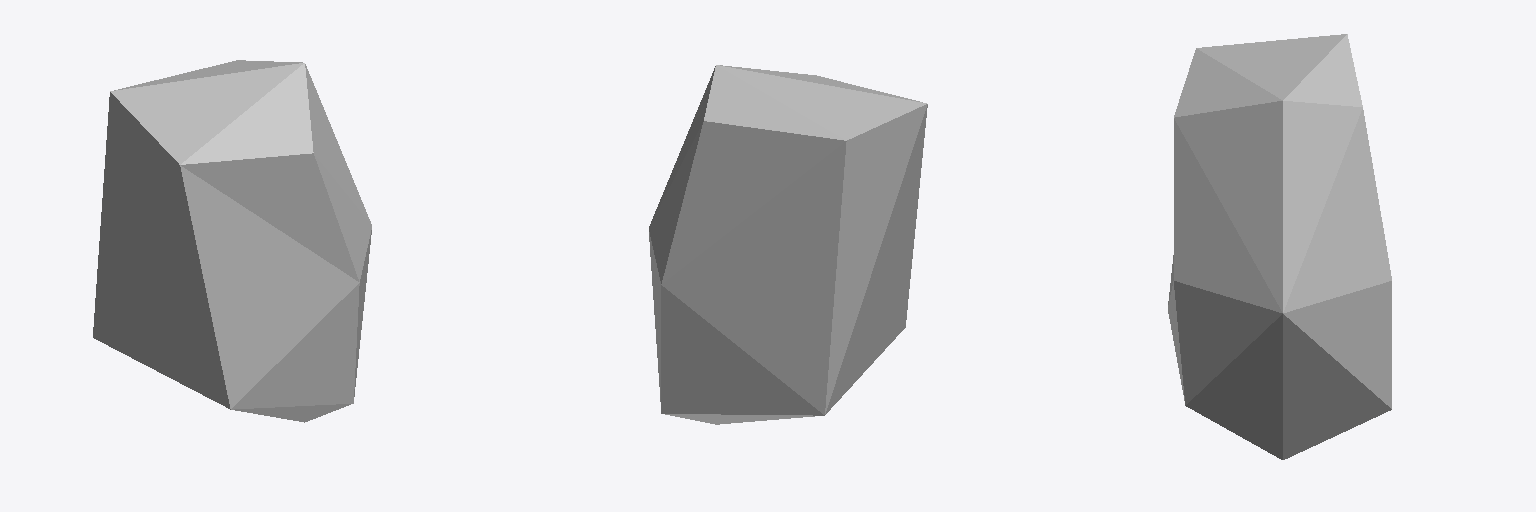
The model's file is rock1.obj.
The picture shows the model from 3 angles: view 1: azimuth 30°, elevation 25°; view 2: azimuth 150°, elevation 25°; view 3: azimuth 270°, elevation 25°; orthographic projection.
Visible parts, largest first — view 1: Cube; view 2: Cube; view 3: Cube.
Boxes of the visible parts, <box> form: Cube: <box>93,60,371,422</box>; Cube: <box>649,65,927,424</box>; Cube: <box>1168,34,1391,459</box>.
Bounding box in the file's own units: 2.49 × 3.63 × 2.05.